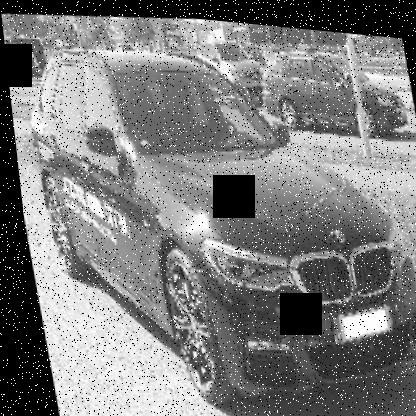not_emergency: (13, 7, 415, 415)
